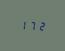one: (18, 19, 26, 30)
seven: (28, 19, 36, 31)
two: (37, 20, 45, 31)
